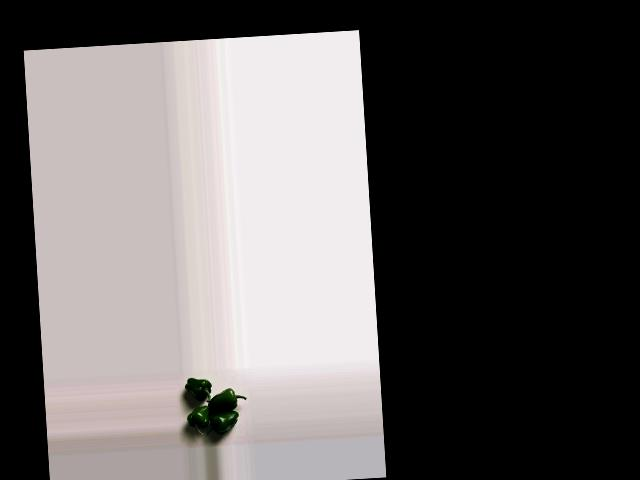bell_pepper: (186, 403, 209, 434)
